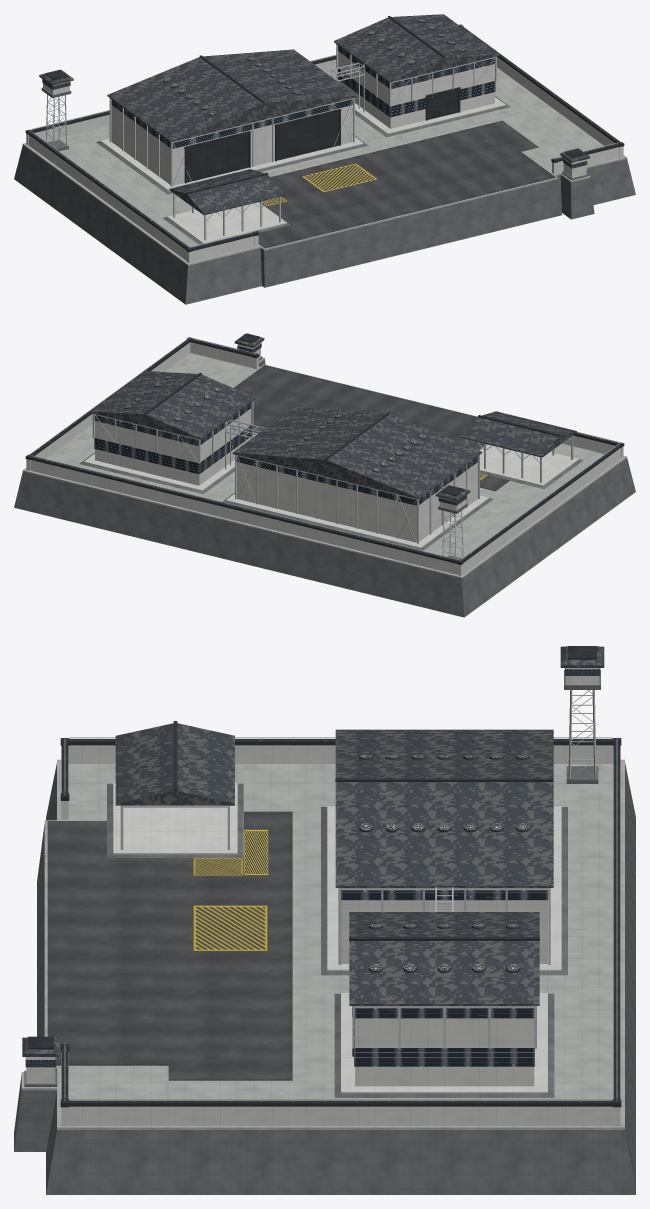
Rendered from pilot_academy_lvl2.glb.
3 views of the same model, one above another, from view 1: azimuth 30°, elevation 25°; view 2: azimuth 150°, elevation 25°; view 3: azimuth 270°, elevation 25° (orthographic). The views are drawn at different scales.
Visible parts, largest first — view 1: PAC_L2_ConcDark, PAC_L2_RoofCorr, PAC_L2_ConcLight, PAC_L2_Asphalt, PAC_L2_ConcMid, PAC_L2_DoorCorr, PAC_L2_SteelDark, PAC_L2_SteelTruss, PAC_L2_WindowDark, PAC_L2_HatchZone, PAC_L2_RoofVent; view 2: PAC_L2_ConcDark, PAC_L2_ConcLight, PAC_L2_RoofCorr, PAC_L2_ConcMid, PAC_L2_Asphalt, PAC_L2_SteelTruss, PAC_L2_SteelDark, PAC_L2_WindowDark, PAC_L2_RoofVent; view 3: PAC_L2_RoofCorr, PAC_L2_ConcDark, PAC_L2_Asphalt, PAC_L2_ConcMid, PAC_L2_ConcLight, PAC_L2_SteelDark, PAC_L2_WindowDark, PAC_L2_SteelTruss, PAC_L2_HatchZone, PAC_L2_RoofVent.
Boxes of the visible parts, bbox=[...] form: PAC_L2_ConcDark: bbox=[14, 87, 635, 304]; PAC_L2_RoofCorr: bbox=[39, 14, 589, 215]; PAC_L2_ConcLight: bbox=[26, 51, 623, 262]; PAC_L2_Asphalt: bbox=[258, 120, 555, 248]; PAC_L2_ConcMid: bbox=[22, 67, 627, 265]; PAC_L2_DoorCorr: bbox=[186, 90, 458, 182]; PAC_L2_SteelDark: bbox=[25, 16, 624, 252]; PAC_L2_SteelTruss: bbox=[28, 24, 621, 248]; PAC_L2_WindowDark: bbox=[42, 45, 587, 168]; PAC_L2_HatchZone: bbox=[262, 163, 378, 206]; PAC_L2_RoofVent: bbox=[163, 19, 464, 114]; PAC_L2_ConcDark: bbox=[14, 356, 635, 617]; PAC_L2_ConcLight: bbox=[26, 342, 623, 575]; PAC_L2_RoofCorr: bbox=[90, 333, 576, 501]; PAC_L2_ConcMid: bbox=[22, 353, 627, 578]; PAC_L2_Asphalt: bbox=[233, 365, 509, 491]; PAC_L2_SteelTruss: bbox=[28, 337, 621, 561]; PAC_L2_SteelDark: bbox=[25, 333, 624, 564]; PAC_L2_WindowDark: bbox=[94, 343, 478, 505]; PAC_L2_RoofVent: bbox=[124, 376, 425, 471]; PAC_L2_RoofCorr: bbox=[22, 646, 604, 1056]; PAC_L2_ConcDark: bbox=[14, 670, 635, 1194]; PAC_L2_Asphalt: bbox=[47, 811, 292, 1080]; PAC_L2_ConcMid: bbox=[21, 759, 624, 1129]; PAC_L2_ConcLight: bbox=[26, 668, 620, 1125]; PAC_L2_SteelDark: bbox=[27, 646, 621, 1107]; PAC_L2_WindowDark: bbox=[25, 668, 600, 1067]; PAC_L2_SteelTruss: bbox=[64, 690, 617, 1101]; PAC_L2_HatchZone: bbox=[192, 829, 268, 951]; PAC_L2_RoofVent: bbox=[359, 754, 529, 971].
Size of the model in its own units: 130 by 30.04 by 90.15.
11 materials, 11 textured.
